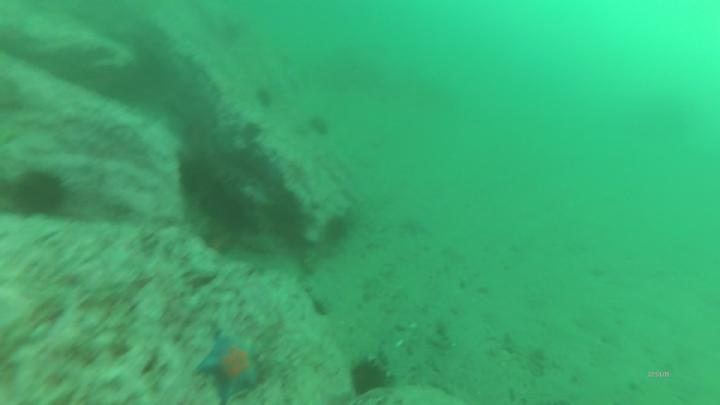echinus: (7, 168, 71, 220), (198, 179, 249, 238), (348, 356, 394, 398), (322, 213, 353, 247), (176, 159, 203, 197), (238, 119, 264, 148), (305, 114, 332, 140), (254, 87, 275, 110)
starfish: (199, 328, 264, 405)
